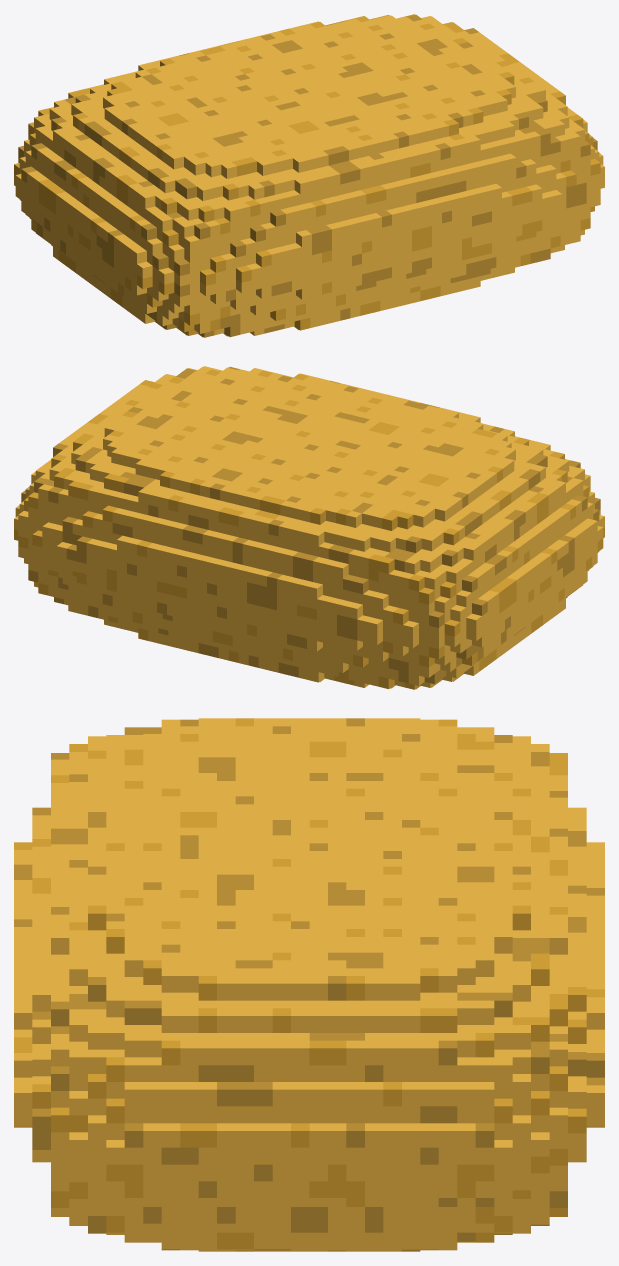
File: sandbox_1.obj
The picture shows the model from 3 angles, top to bottom: view 1: azimuth 30°, elevation 25°; view 2: azimuth 150°, elevation 25°; view 3: azimuth 270°, elevation 25°; orthographic projection. The views are drawn at different scales.
Size of the model in its own units: 4.6 by 1.6 by 3.2.
1 material, 1 textured.
